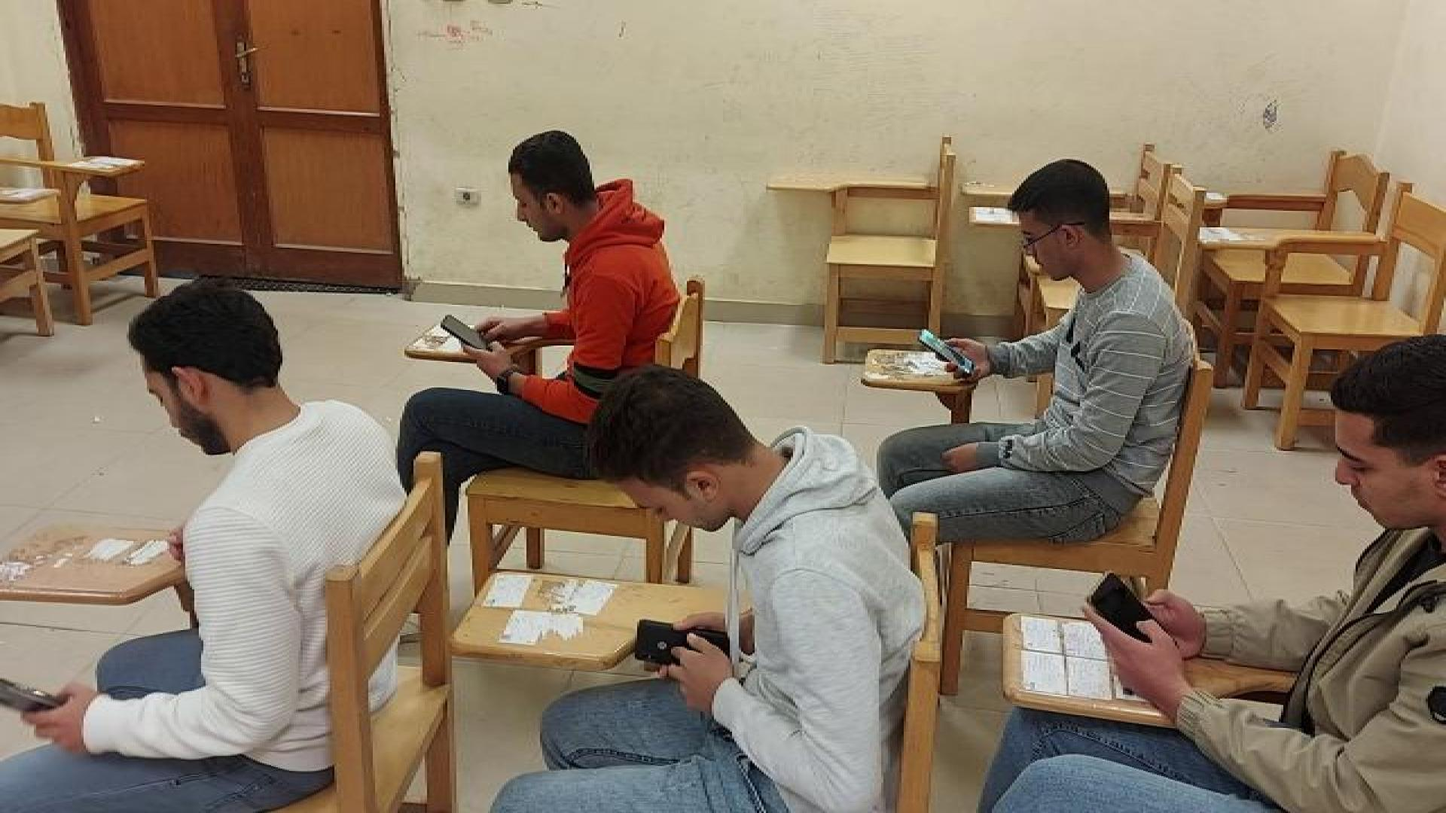phone: (1086, 570, 1181, 660), (634, 617, 731, 670), (1, 674, 69, 720), (917, 326, 976, 376), (439, 312, 496, 353)
